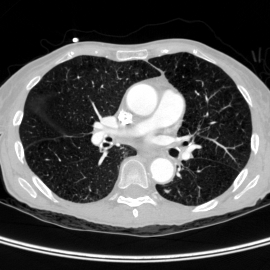nodule: (165, 189, 169, 193)
